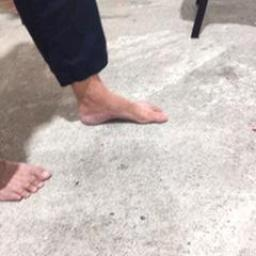Medial View -Left Foot-: (62, 68, 173, 140)
